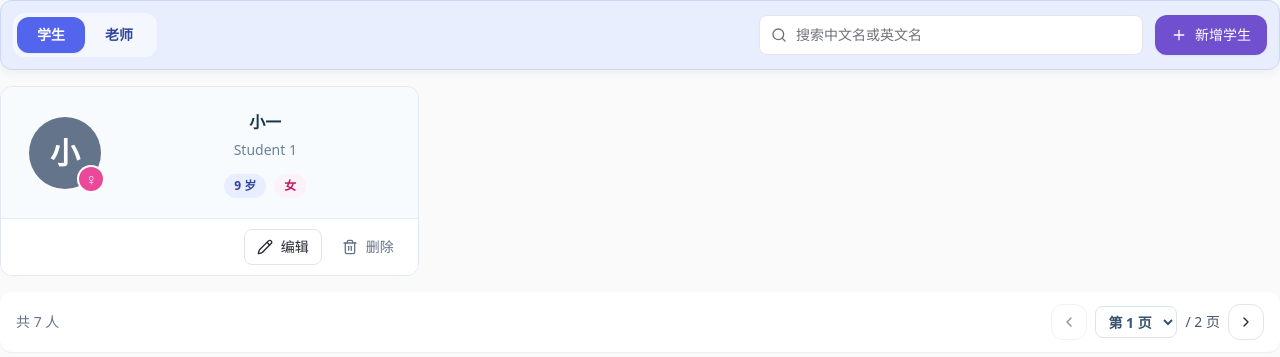
PeopleManager › renders profile cards and requests the next database page
Expected: the heading "小一" is shown, [249,108,281,136]
Expected: the element showing "小 ♀ 小一 Student 1 9 岁 女 编辑 删除" does not show "喜欢阅读和表达", [0,86,419,276]
Click the button named "下一页".
click(1246, 322)  # box [1228,304,1264,340]
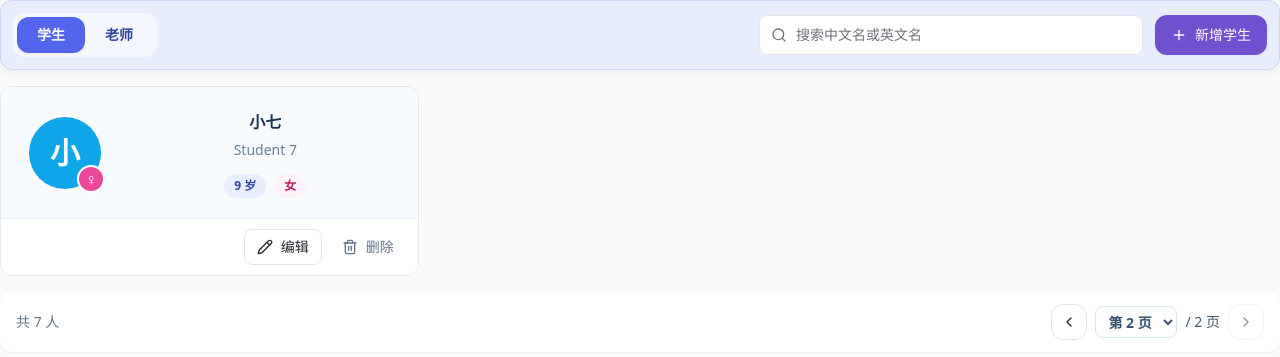
Expected: the heading "小七" is shown, [249,108,281,136]
